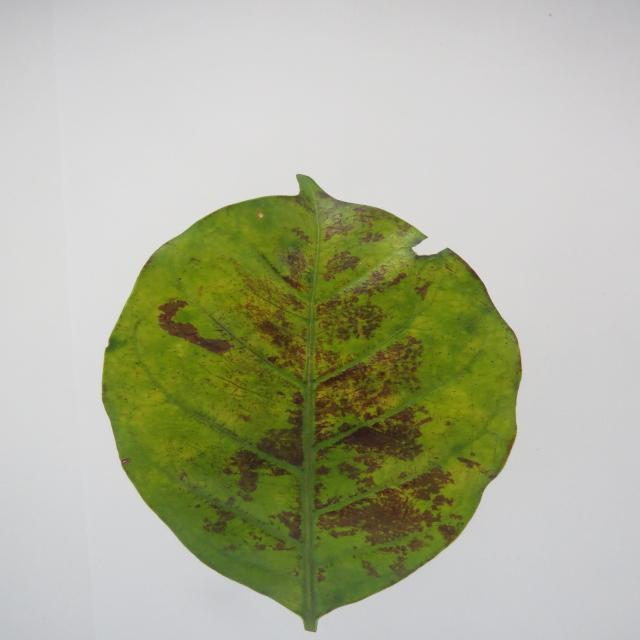DeficienciaNutricional-Potasio: (103, 175, 520, 631)
